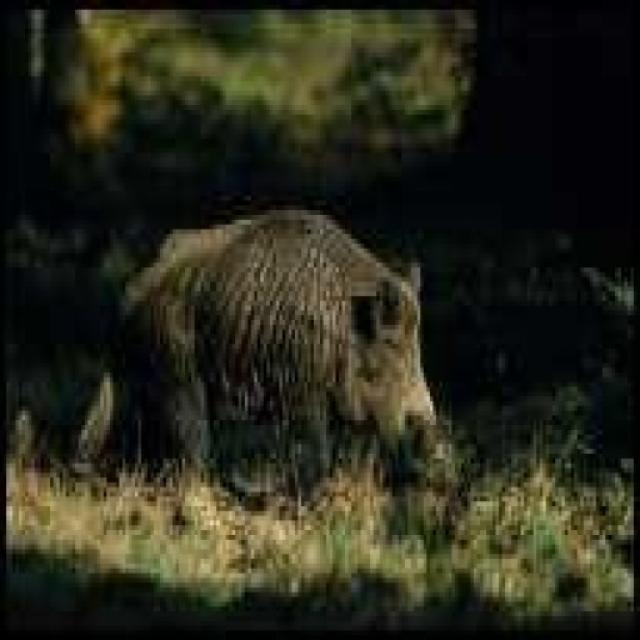pig: (86, 168, 502, 503)
